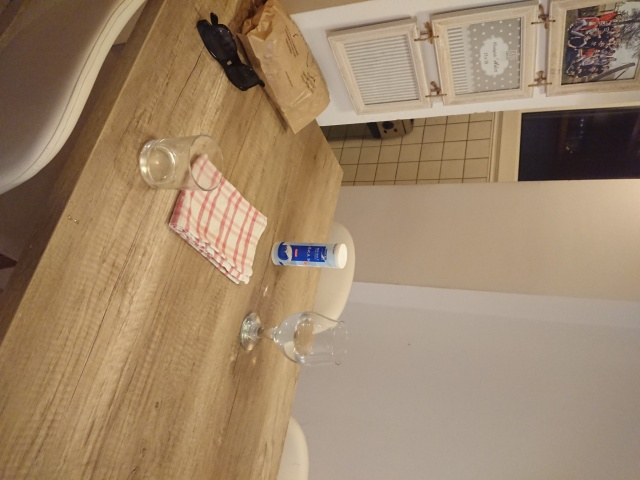Solana Pag Fine Sea Salt 250g: (270, 240, 349, 270)
